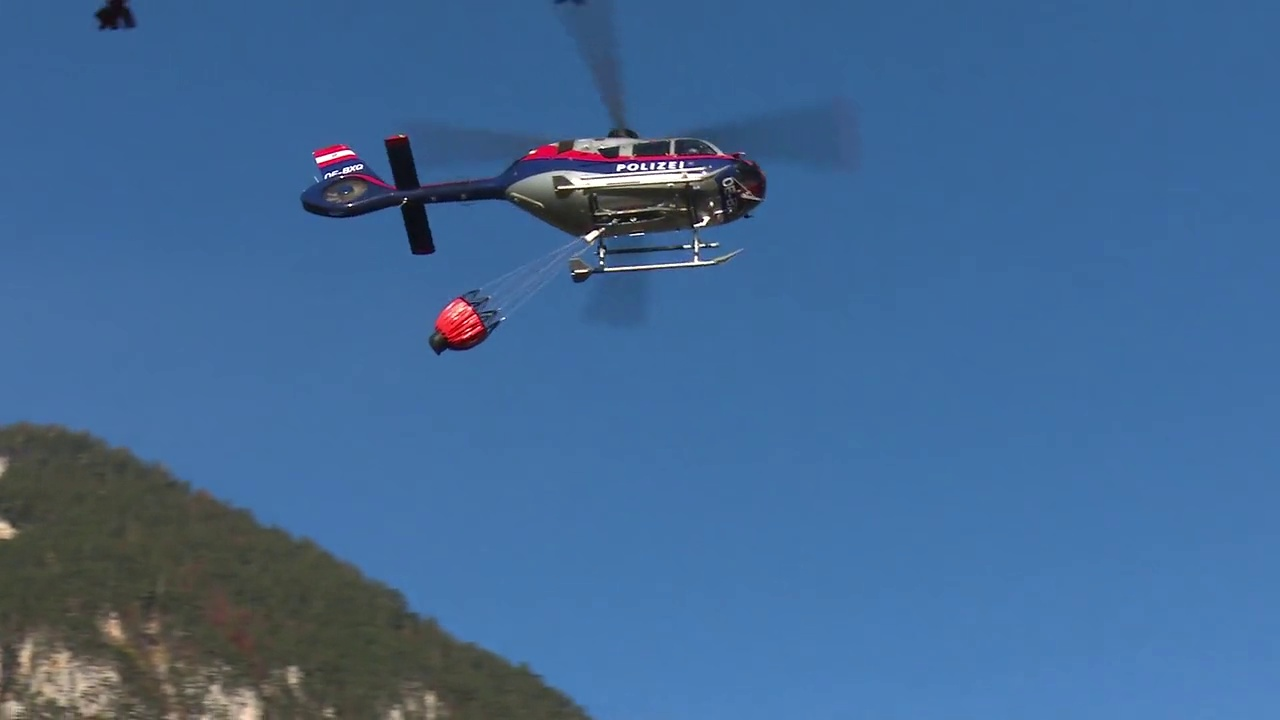heli: (300, 0, 863, 273)
